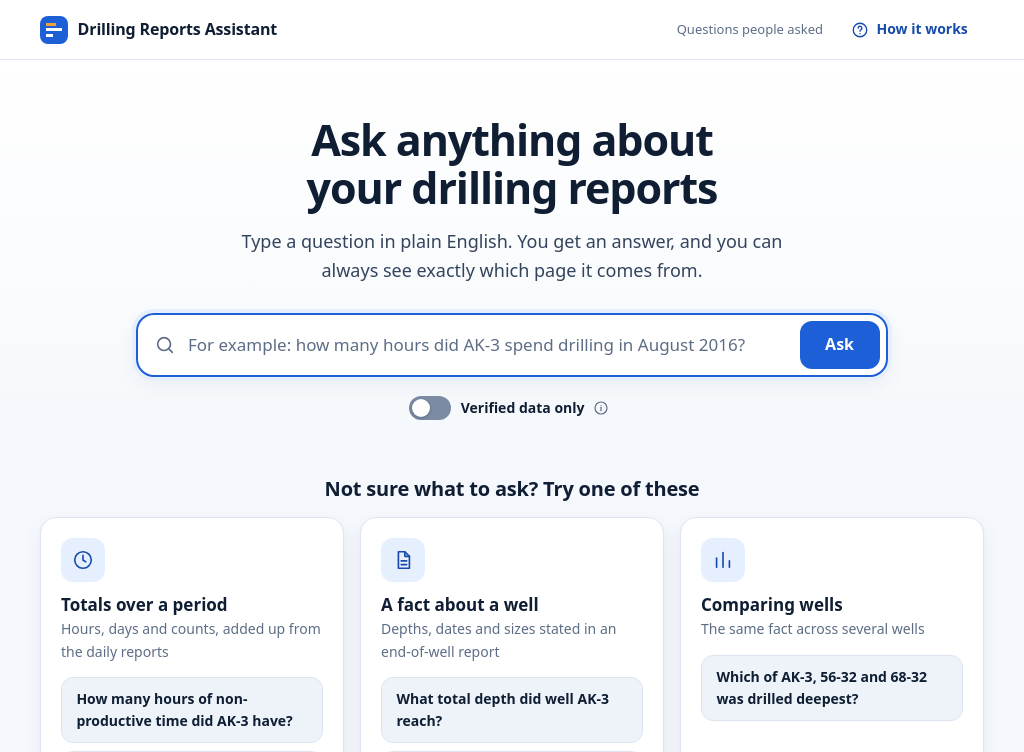
the keyboard › keeps Tab inside the guide, and gives the keyboard back to what opened it
The image size is (1024, 752).
Click the button "How it works". click: [910, 30]
box: [835, 10, 984, 50]
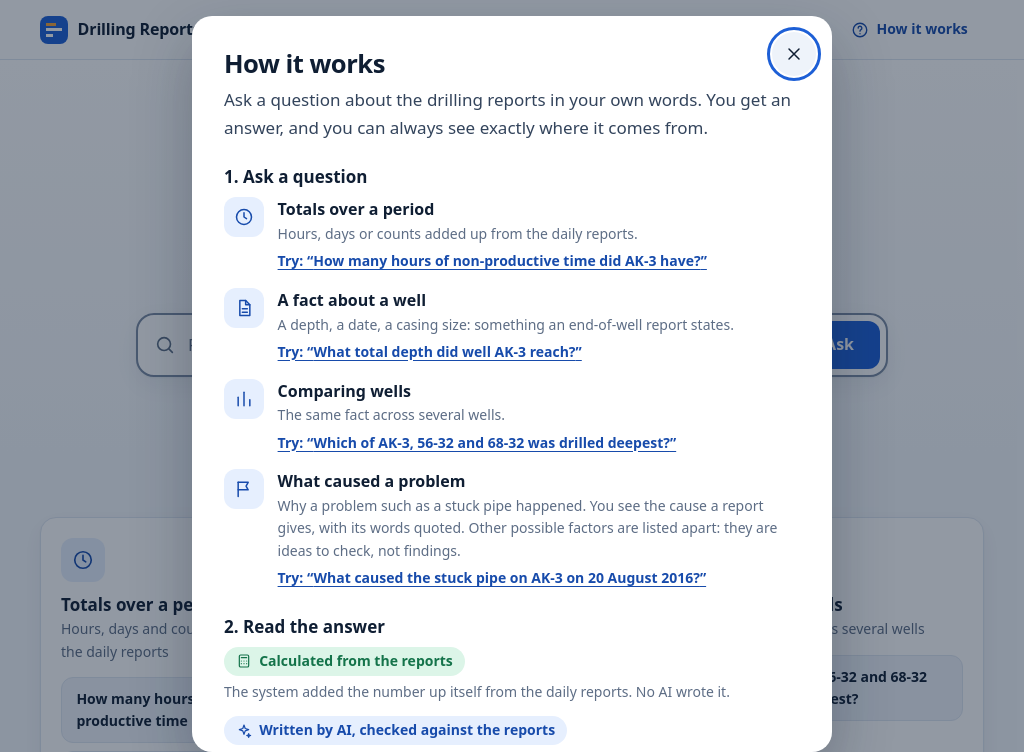
Type keys "{Shift>}{Tab}{/Shift}"
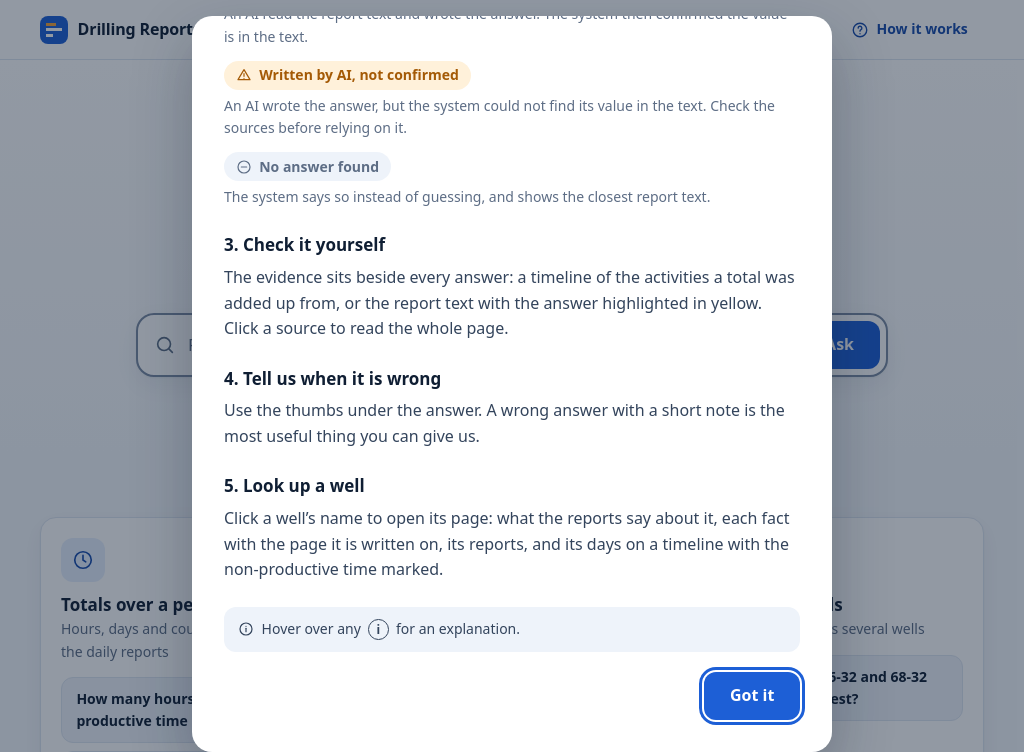
Press Tab
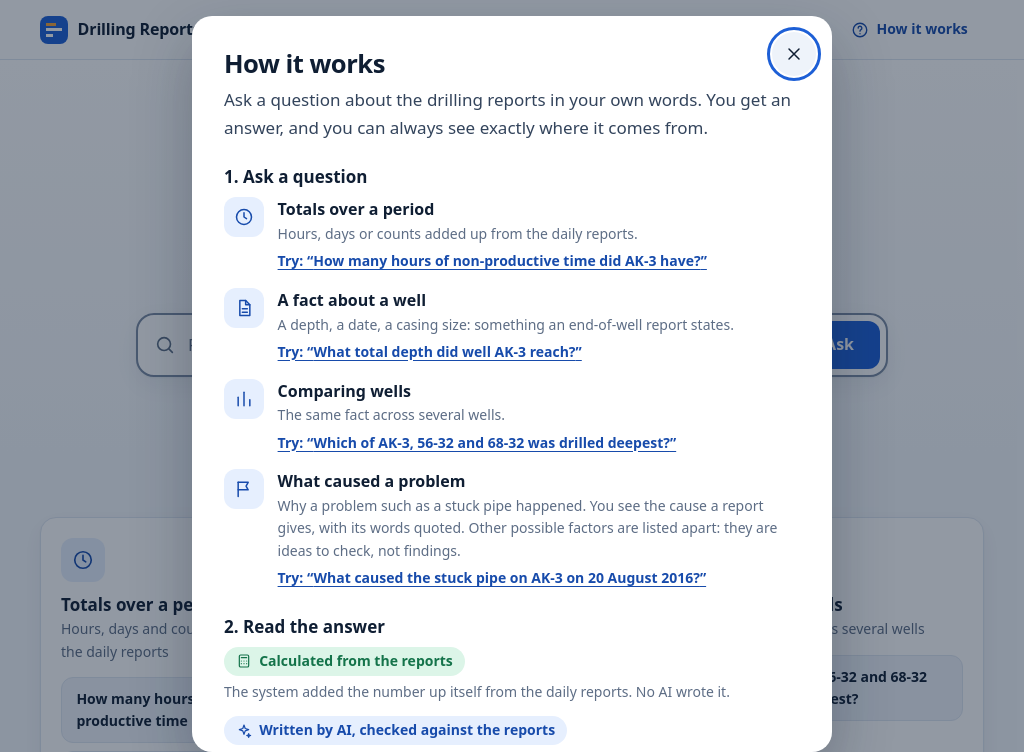
Press Escape
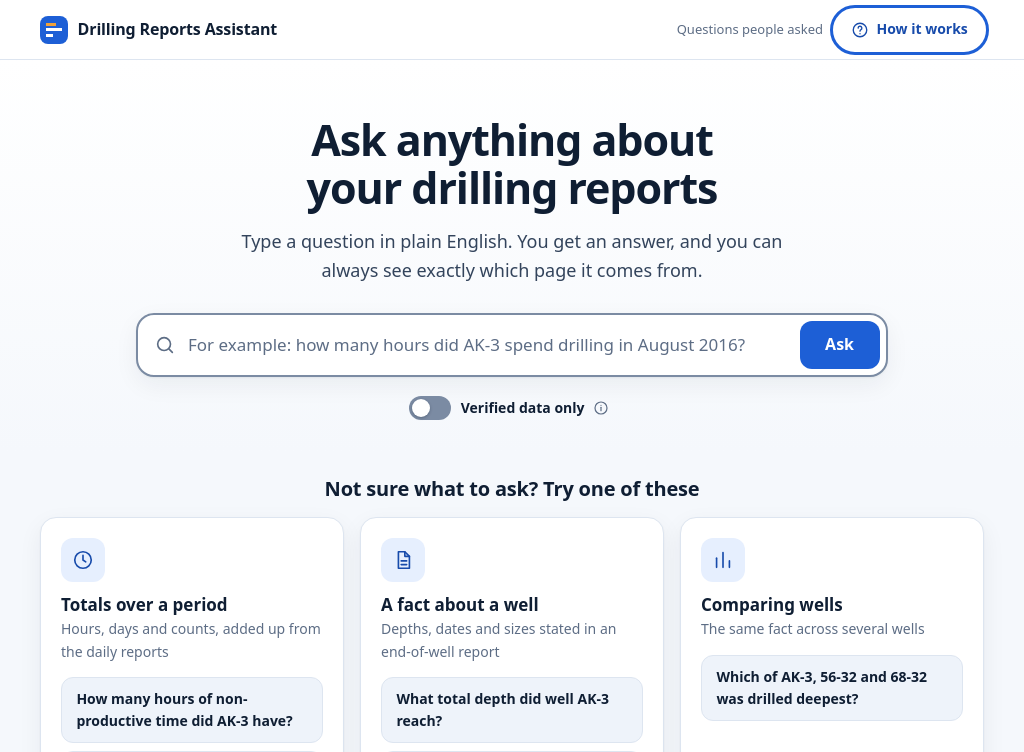
expect the dialog is gone: met
